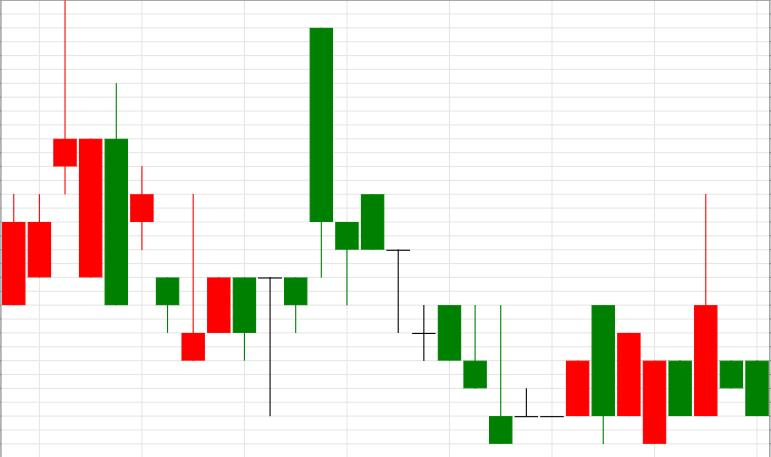inverse_hammer_rise: (309, 27, 513, 444)
